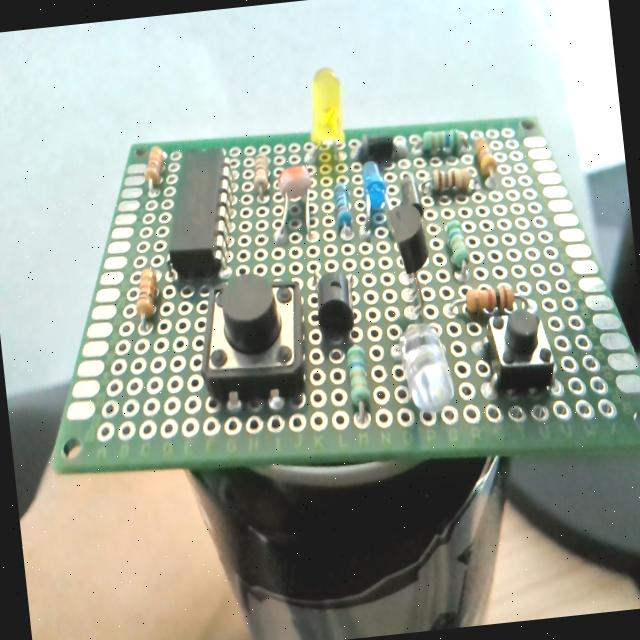IC: (154, 144, 240, 284)
cds: (268, 163, 318, 244)
diode: (391, 167, 425, 216), (355, 130, 400, 164)
led: (394, 320, 456, 416), (294, 66, 348, 161), (359, 157, 390, 226)
resistor: (448, 278, 526, 323), (345, 345, 372, 424), (132, 267, 160, 320), (422, 126, 464, 158), (432, 165, 474, 195), (445, 219, 470, 269), (332, 180, 354, 236), (472, 134, 497, 178), (142, 145, 168, 187), (250, 153, 272, 196)
switch: (192, 268, 310, 408), (482, 298, 556, 394)
transistor: (384, 202, 442, 321), (308, 262, 365, 343)
